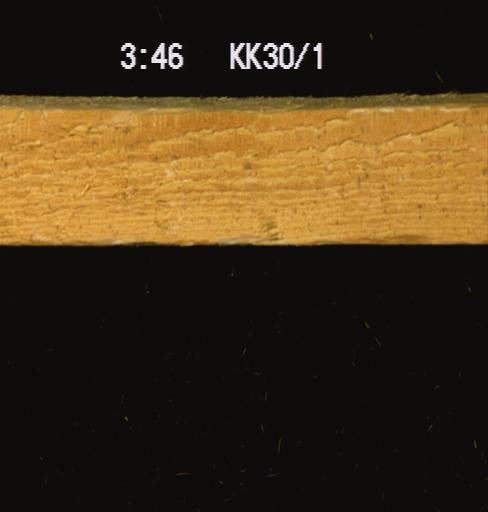wave: (302, 222, 433, 244)
